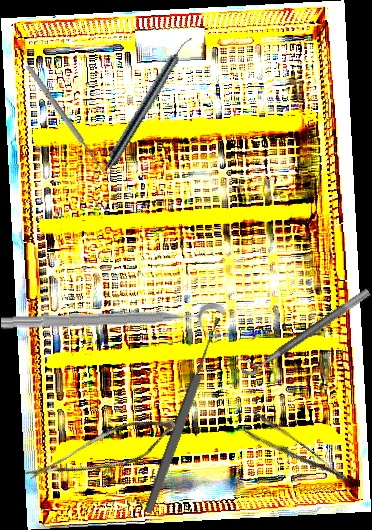Dressing Forceps: (240, 408, 352, 501)
Fixation Ring: (234, 277, 372, 380), (0, 303, 226, 347)
Handpiece: (102, 32, 196, 173)
Hook Surgical: (23, 59, 115, 180)
Micro Scissor: (22, 393, 182, 515)
Surgical Spoon: (141, 316, 226, 515)
